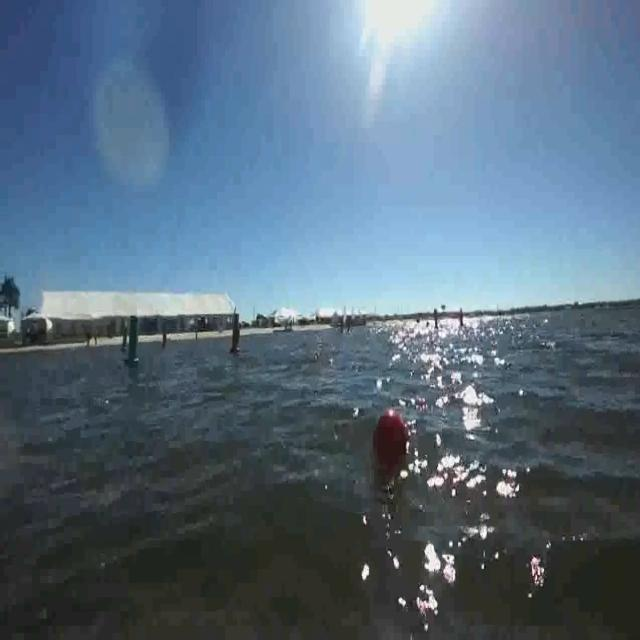green-column-buoy: (125, 315, 144, 368), (119, 323, 128, 352)
red-buoy: (374, 407, 409, 475)
red-column-buoy: (228, 315, 243, 357), (162, 329, 170, 350)
